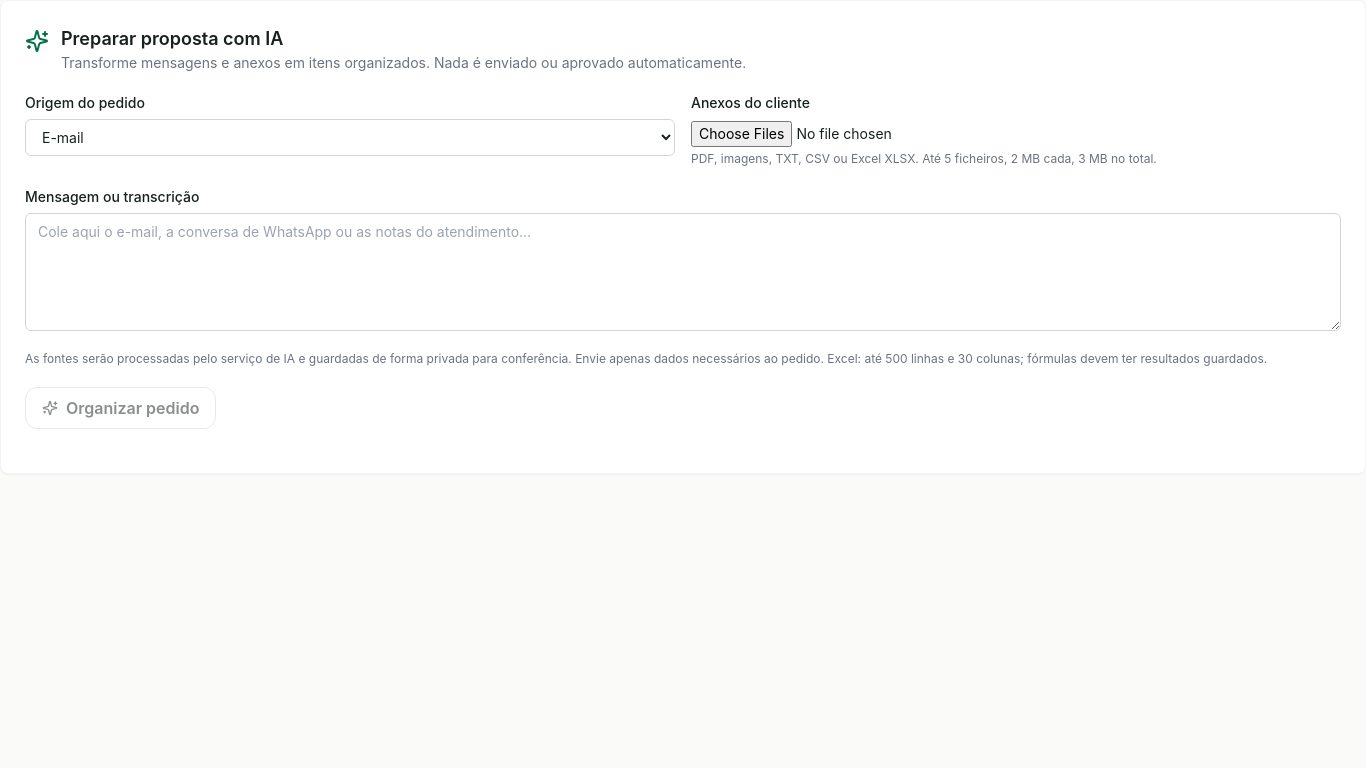
Test: ProposalAssistant › reviews sources and unknown quantities before applying, without creating a quote
The width and height of the screenshot is (1366, 768).
Expected: the button "Organizar pedido" is disabled, [25,387,216,429]
Replace the text in the text box labelled "Mensagem ou transcrição" with "Preciso de cartões mate" at point(683, 272), box [25,213,1341,331]
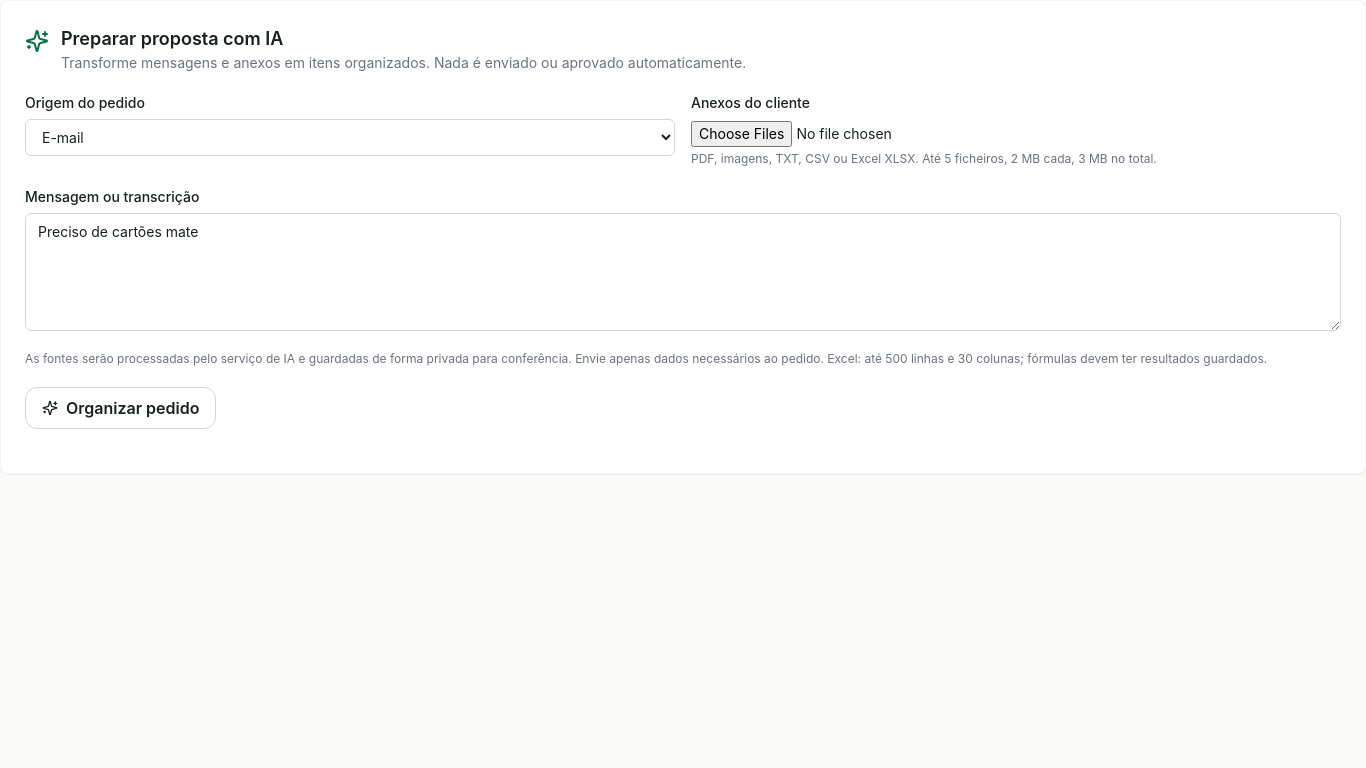
Click the button "Organizar pedido" at point(121, 408), box [25,387,216,429]
(page scrolled)
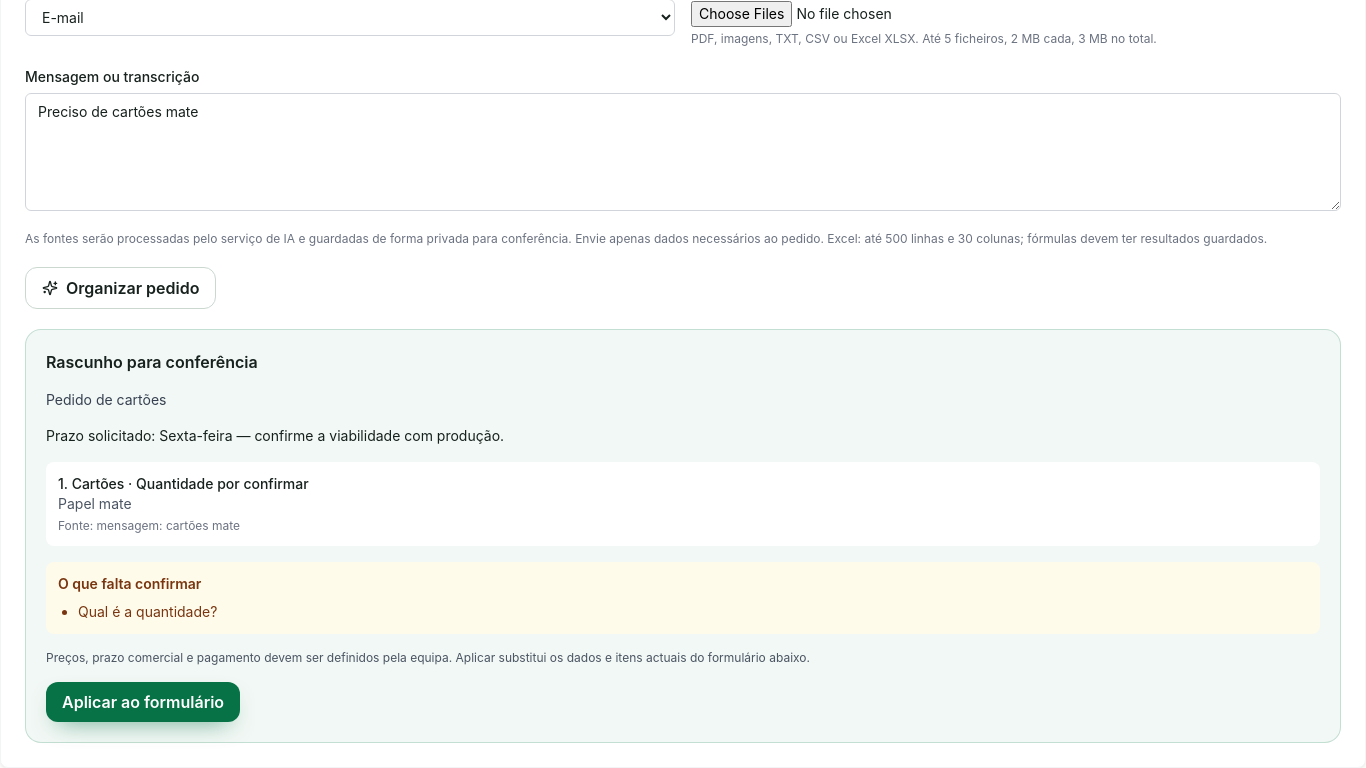
Now the text "1. Cartões · Quantidade por confirmar" is shown, box [58,475,309,492]
Now the list item "Qual é a quantidade?" is shown, box [78,603,217,620]
Click the button "Aplicar ao formulário" at point(143, 702), box [46,682,240,722]
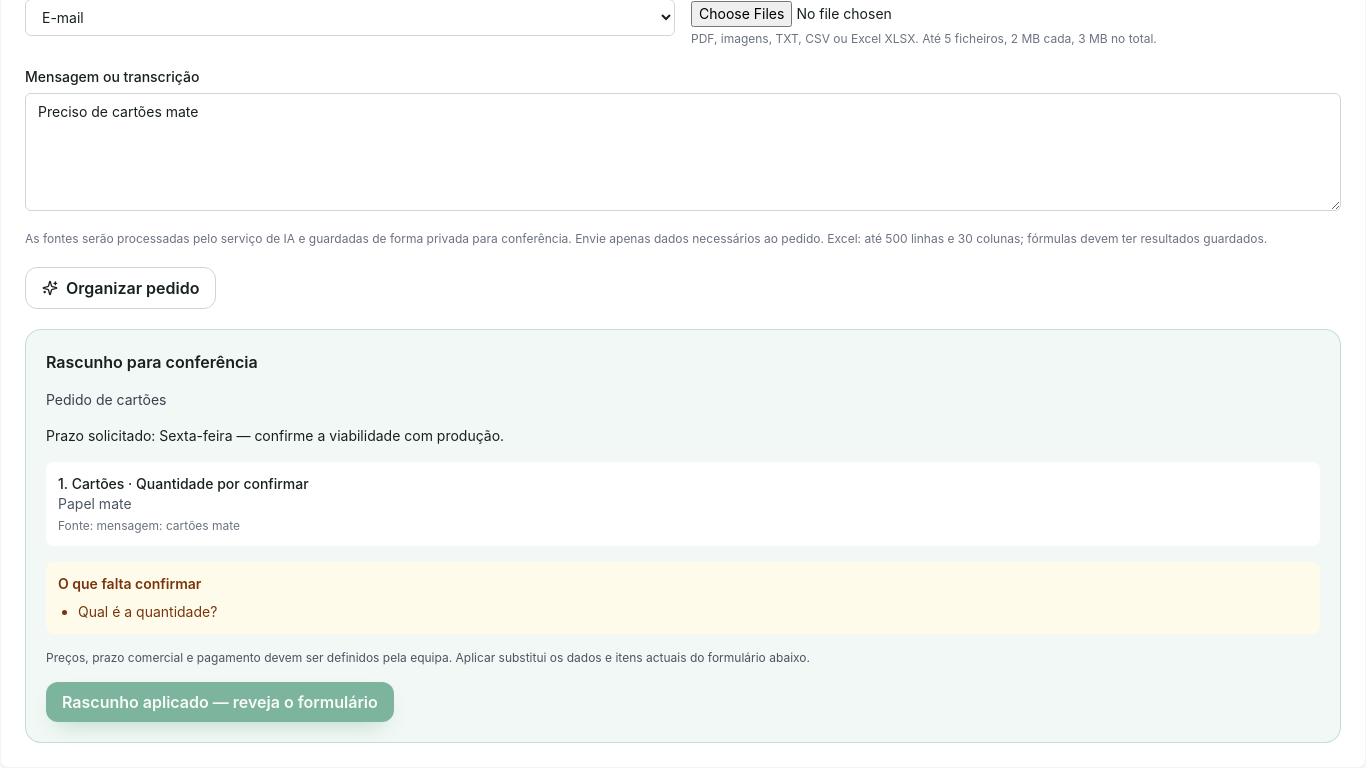
Now the button "Rascunho aplicado — reveja o formulário" is disabled, box [46,682,394,722]
Replace the text in the text box labelled "Mensagem ou transcrição" with "Pedido corrigido" at point(683, 152), box [25,93,1341,211]
(page scrolled)
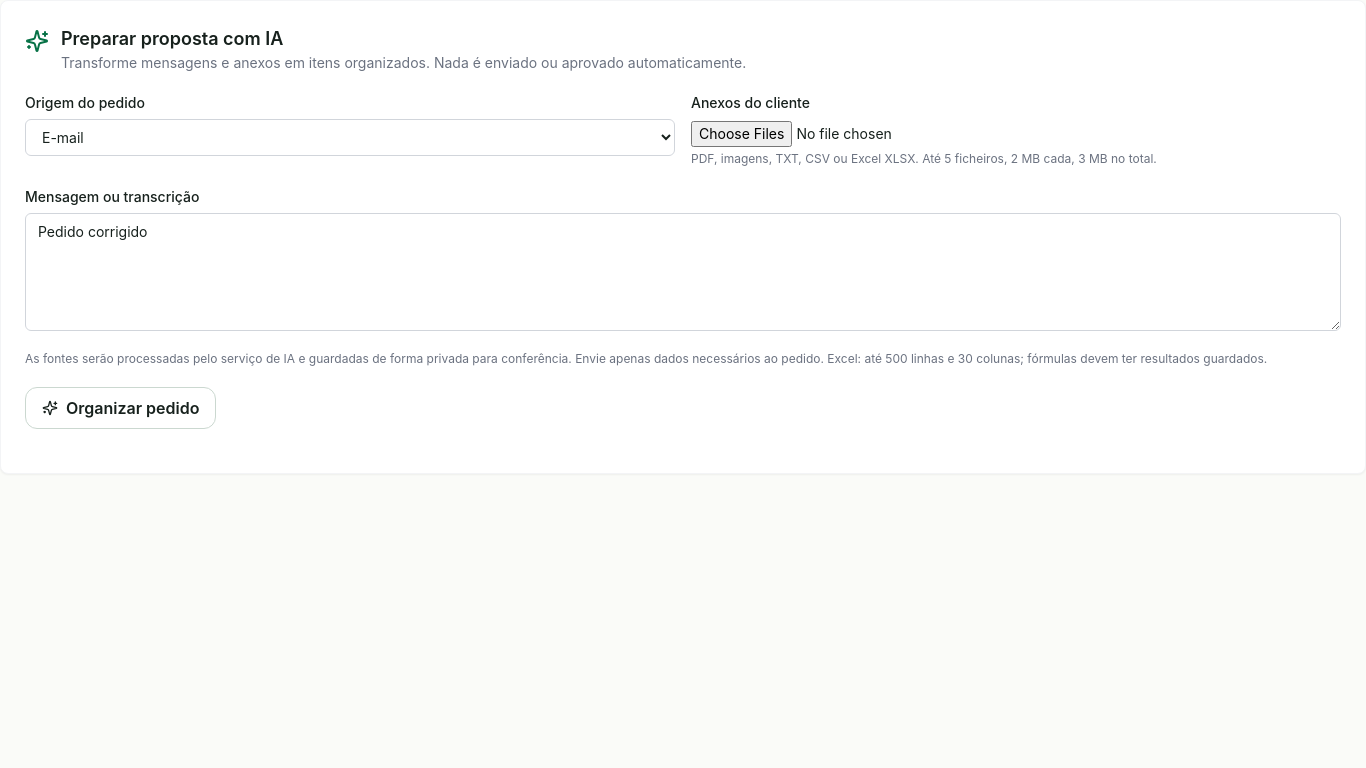
Now the heading "Rascunho para conferência" is gone
